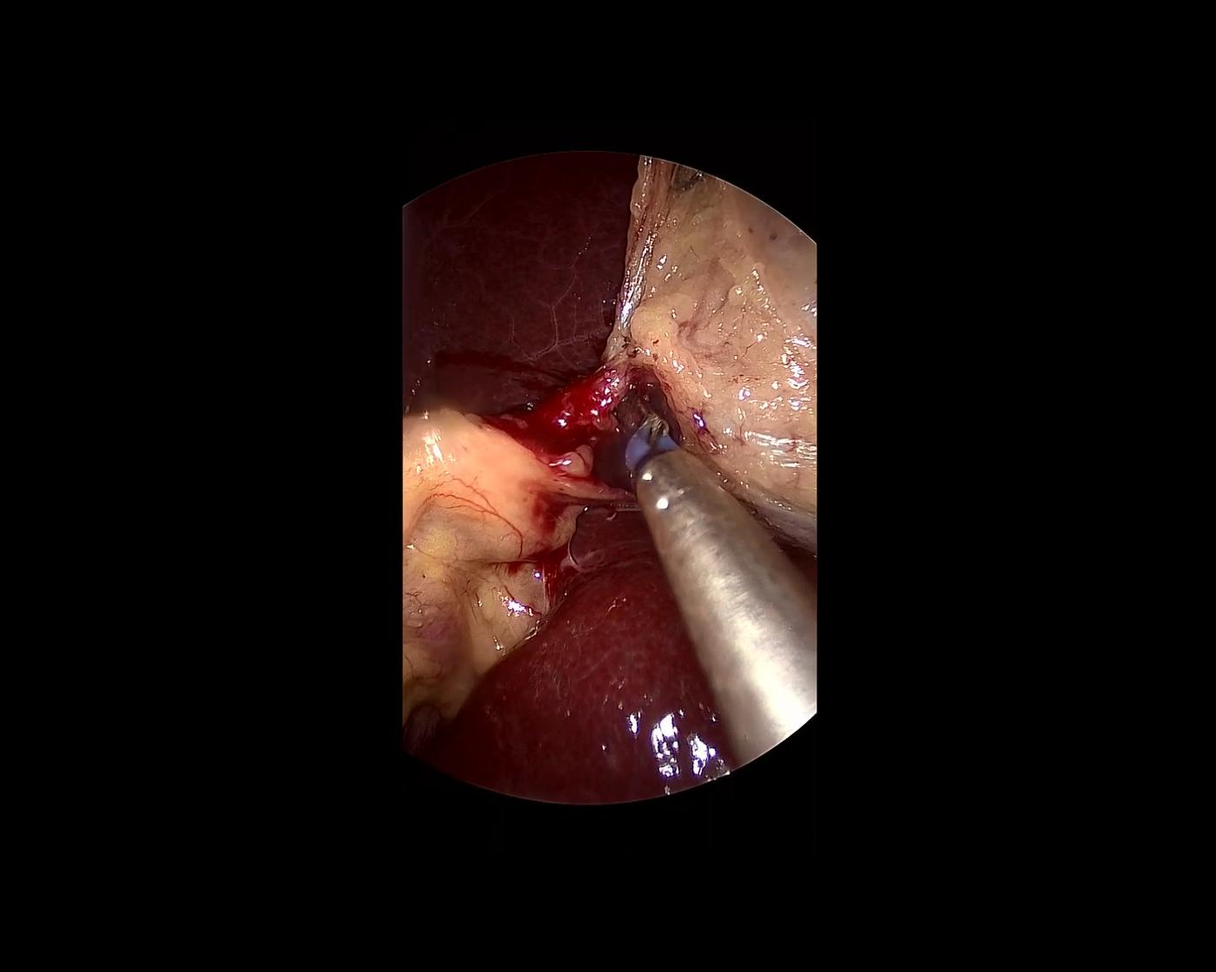Allis: (614, 380, 855, 773)
Gallbladder: (609, 160, 815, 551)
Liver: (361, 489, 732, 866), (401, 153, 635, 417)
